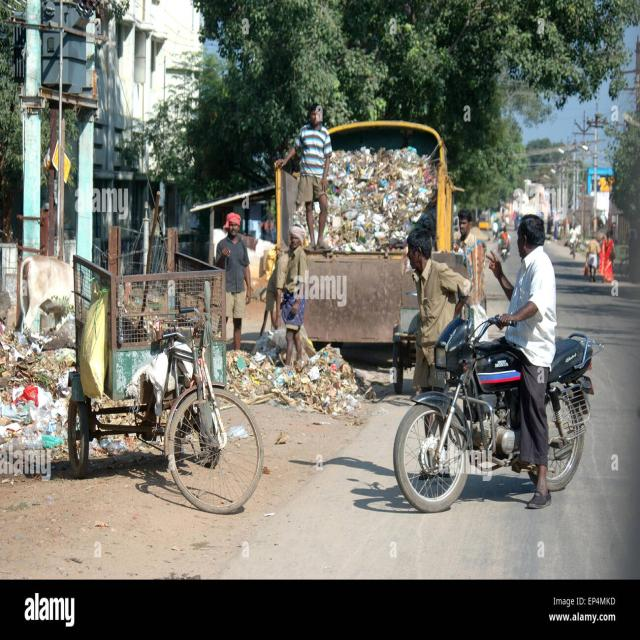garbage: (225, 331, 370, 416), (322, 144, 436, 252), (0, 328, 75, 451)
